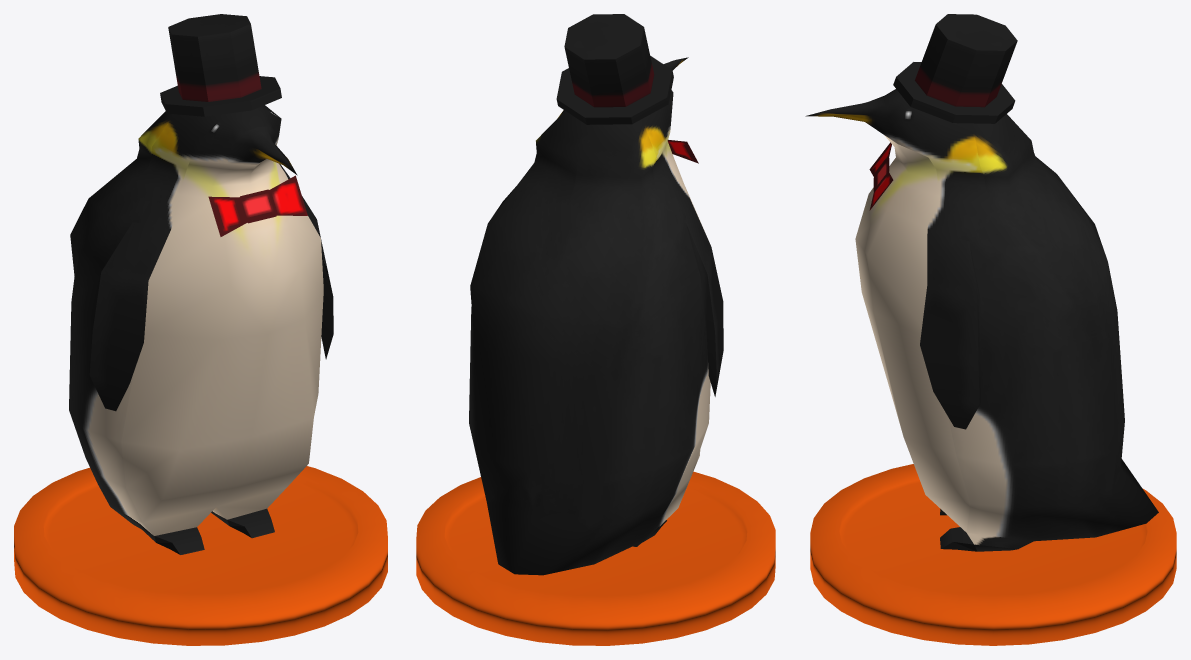
File: penguin.fbx
3 views of the same model, side by side, from view 1: azimuth 30°, elevation 25°; view 2: azimuth 150°, elevation 25°; view 3: azimuth 270°, elevation 25° (orthographic). The views are drawn at different scales.
Visible parts, largest first — view 1: SirPingu, Platform; view 2: SirPingu, Platform; view 3: SirPingu, Platform.
Part boxes in pixels (<box>): SirPingu: <box>69,14,333,554</box>; Platform: <box>14,466,387,645</box>; SirPingu: <box>469,14,723,575</box>; Platform: <box>416,471,775,645</box>; SirPingu: <box>805,14,1158,551</box>; Platform: <box>810,464,1176,645</box>.
Bounding box in the file's own units: 312 × 512 × 317.
2 materials, 1 textured.
